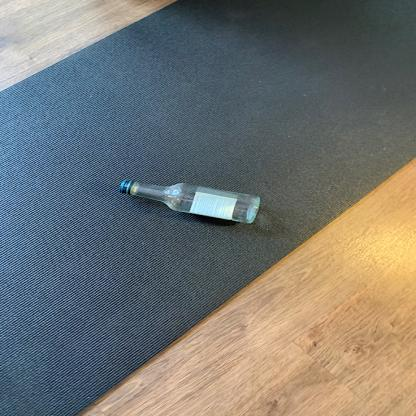trash: (118, 179, 262, 225)
